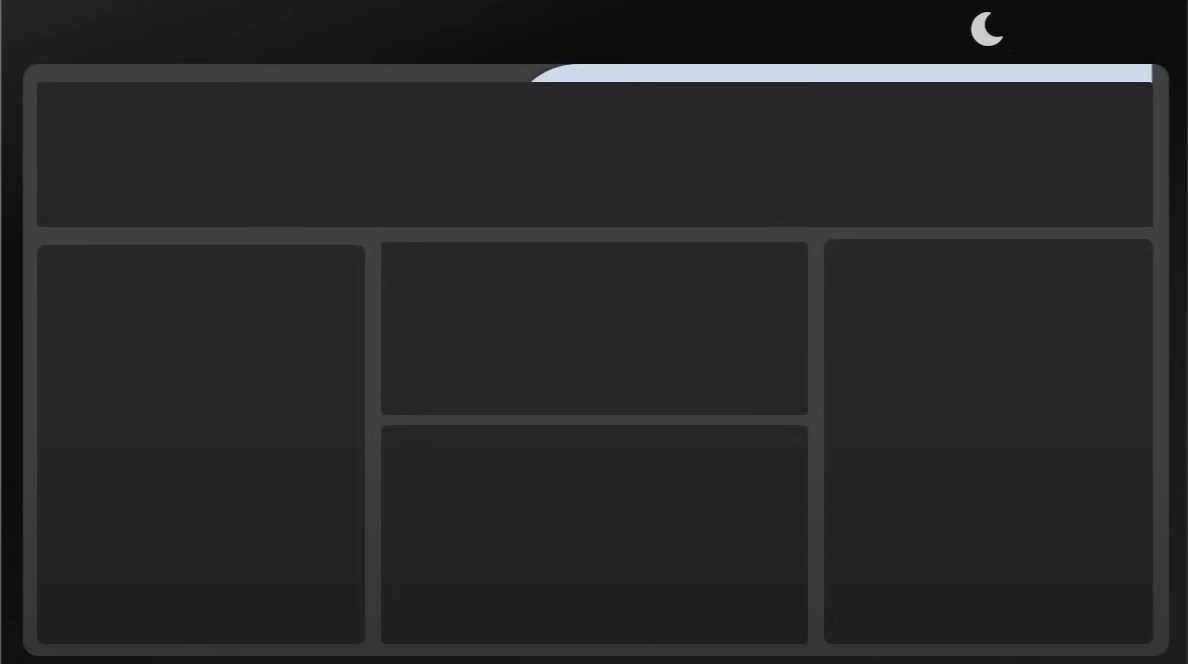

The page's visual inventory and layout, read from the dashboard file:
{"tool":"powerbi","page":{"name":"Dark","canvas":[1280,720],"ordinal":1},"visuals":[{"type":"cardVisual","fields":{"Data":["DAX Calculation.Total Billing Amount","DAX Calculation.Total Medication cost","DAX Calculation.Total Treatment Cost","DAX Calculation.Total Insurance Covered","DAX Calculation.Out-of-Pocket","DAX Calculation.Total Room Charges"]},"box":[38.2,82.7,1204.1,160.7],"z":0},{"type":"map","fields":{"Series":["cities.State"],"Category":["cities.City","cities.State"],"Size":["DAX Calculation.Total Billing Amount"]},"box":[41.4,330.8,346.8,356.3],"z":1000},{"type":"advancedSlicerVisual","fields":{"Values":["Patients Location Switch.Patients Location Switch"]},"box":[42.9,268.8,345.2,62],"z":2000},{"type":"clusteredColumnChart","title":"Total Billing Amount by Procedure","fields":{"Category":["procedures.Procedure"],"Y":["DAX Calculation.All Billing Amount"]},"box":[407.2,260.9,462.9,189.3],"z":3000},{"type":"hundredPercentStackedBarChart","fields":{"Category":["diagnoses.Diagnosis"],"Y":["DAX Calculation.Total Billing Amount"],"Series":["visits.Service Type"]},"box":[407.2,462.9,462.9,229],"z":4000},{"type":"clusteredBarChart","title":"Total Billing Amount by Department","fields":{"Category":["departments.Department"],"Y":["DAX Calculation.Blank Measure","DAX Calculation.Total Billing Amount"]},"box":[890.7,259.3,351.5,432.6],"z":5000},{"type":"textbox","box":[41.4,15.9,384.9,49.3],"z":6000},{"type":"image","box":[824.5,0,54.1,65.2],"z":7000},{"type":"textbox","box":[878.5,14.3,132,38.2],"z":7001}]}

Visuals, with their boxes on the page's 1280x720 design canvas (x1, y1, x2, y2). These are canvas units, not pixel positions in the 1188x664 screenshot, which may show the page scaled, cropped or inside an application window:
cardVisual - DAX Calculation.Total Billing Amount x DAX Calculation.Total Medication cost: box(38, 83, 1242, 243)
map - cities.State x cities.City: box(41, 331, 388, 687)
advancedSlicerVisual - Patients Location Switch.Patients Location Switch: box(43, 269, 388, 331)
"Total Billing Amount by Procedure" clusteredColumnChart: box(407, 261, 870, 450)
hundredPercentStackedBarChart - diagnoses.Diagnosis x DAX Calculation.Total Billing Amount: box(407, 463, 870, 692)
"Total Billing Amount by Department" clusteredBarChart: box(891, 259, 1242, 692)
textbox: box(41, 16, 426, 65)
image: box(824, 0, 879, 65)
textbox: box(878, 14, 1010, 52)
